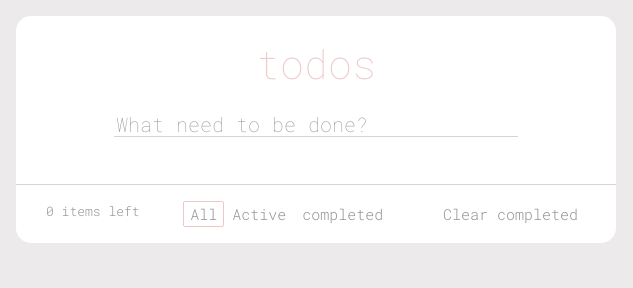
Test: ToDO testing › Input value -> Input keyEvent -> add 1 item
Step 1. Type "test" into the field with test id "main-input" → [316, 124], box [114,112,518,137]
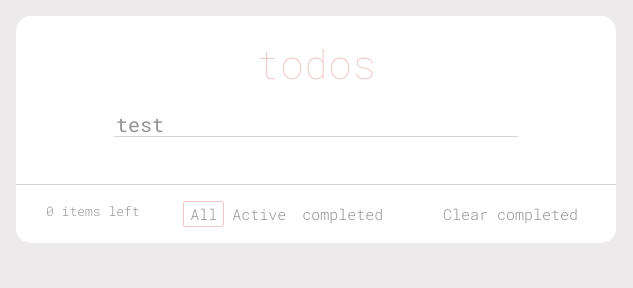
Step 2. Press Enter in the field with test id "main-input", box [114,112,518,137]
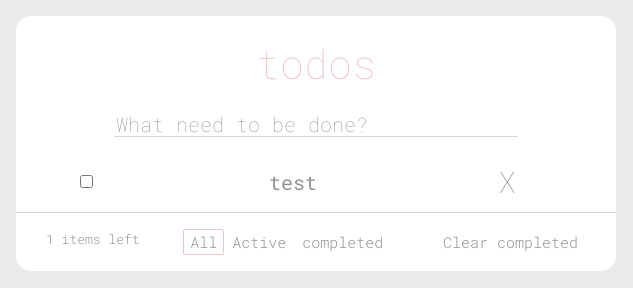
Expected: the text "test" is shown, [269,171,317,193]
